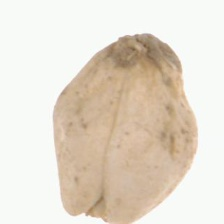L1: (108, 29, 178, 69), (61, 199, 127, 224)
L2: (52, 32, 200, 224)
